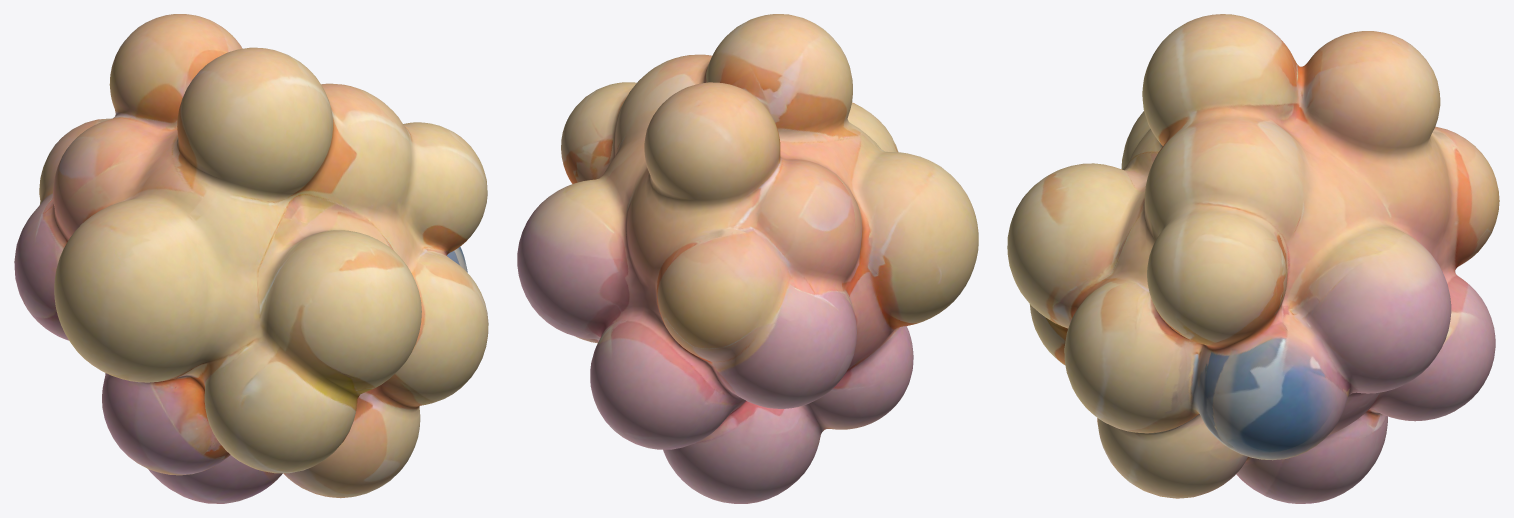
File: Bubble_Cluster_0109205138_texture.glb
The picture shows the model from 3 angles, left to right: view 1: azimuth 30°, elevation 25°; view 2: azimuth 150°, elevation 25°; view 3: azimuth 270°, elevation 25°; orthographic projection. The views are drawn at different scales.
Bounding box in the file's own units: 1.87 × 2 × 1.88.
1 material, 1 textured.
